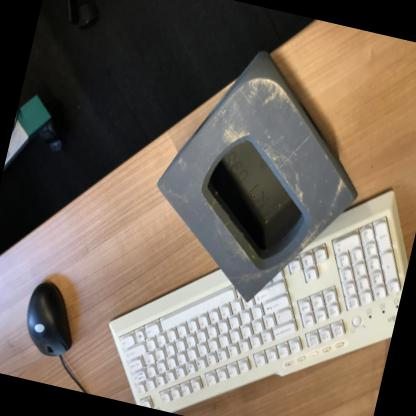CornerCasting: (132, 26, 392, 330)
